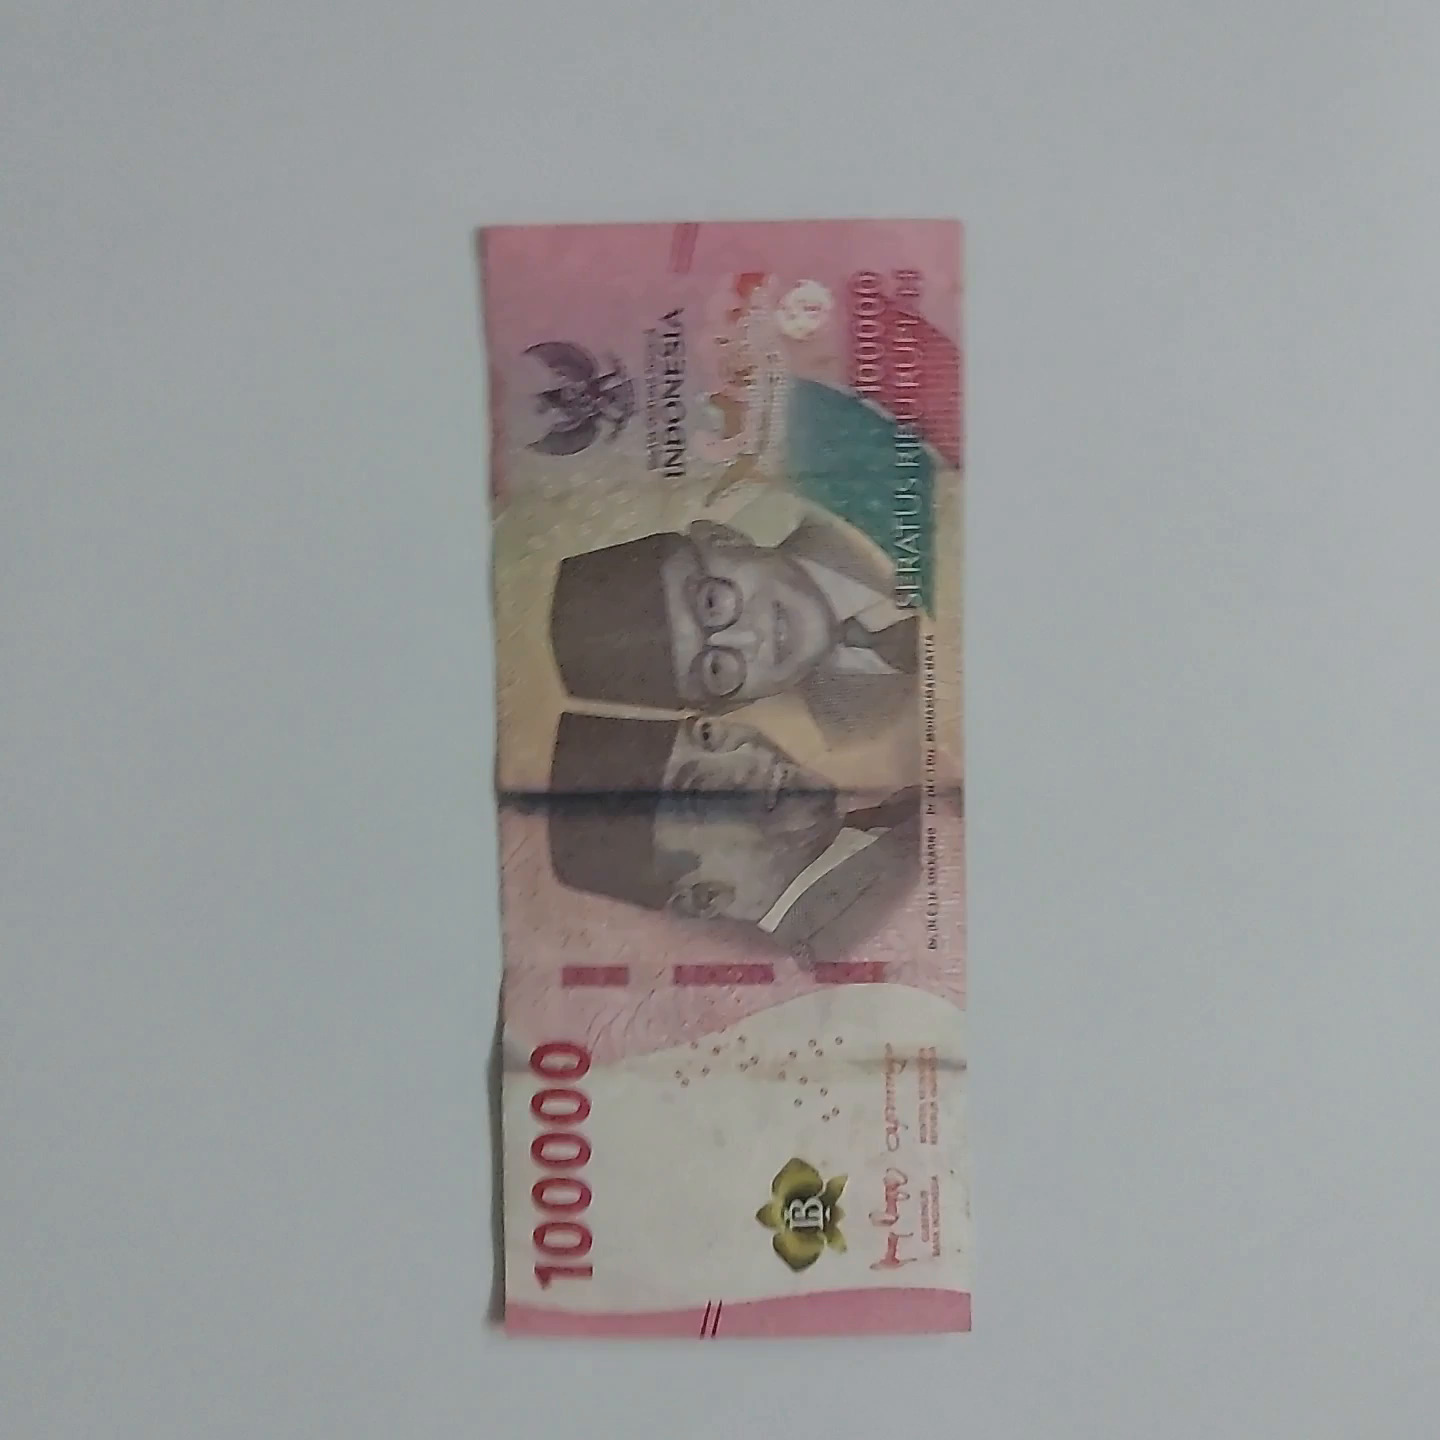100k: (451, 207, 1010, 1353)
